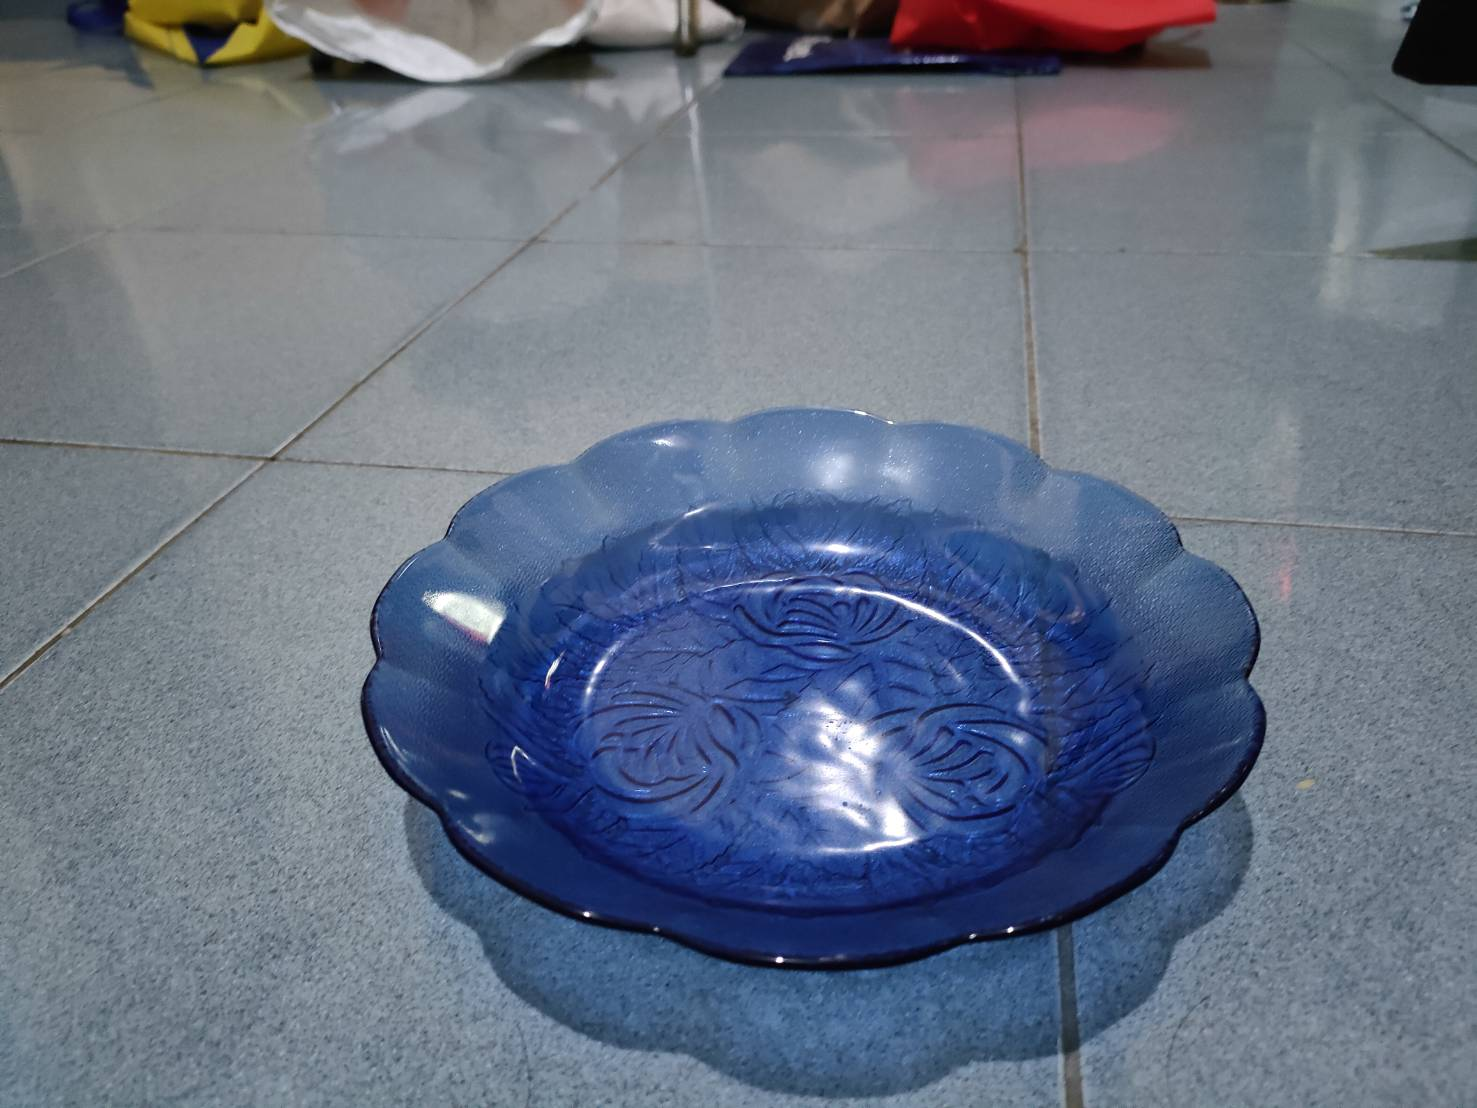piring: (357, 404, 1267, 971)
